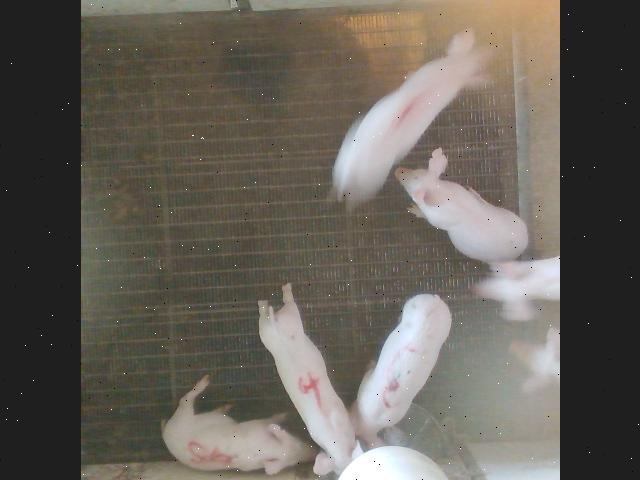pig-1: (332, 30, 488, 206)
pig-3: (349, 294, 449, 448)
pig-4: (258, 284, 361, 475)
pig-5: (162, 376, 316, 475)
